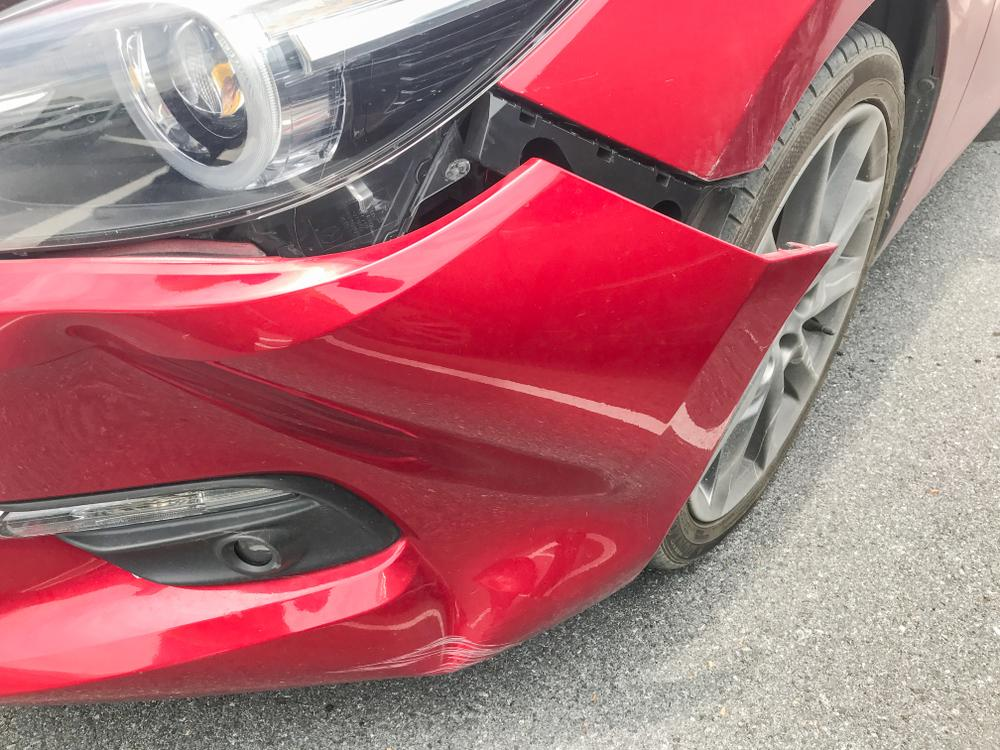dent: (93, 341, 607, 676)
